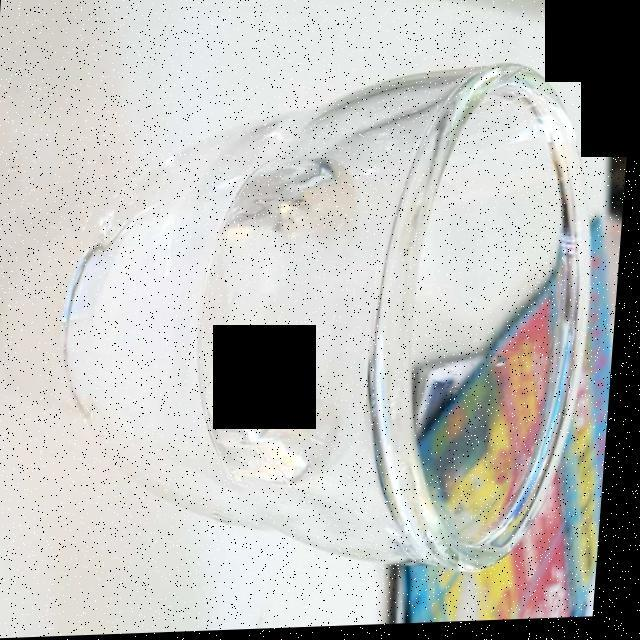water: (50, 151, 366, 483)
